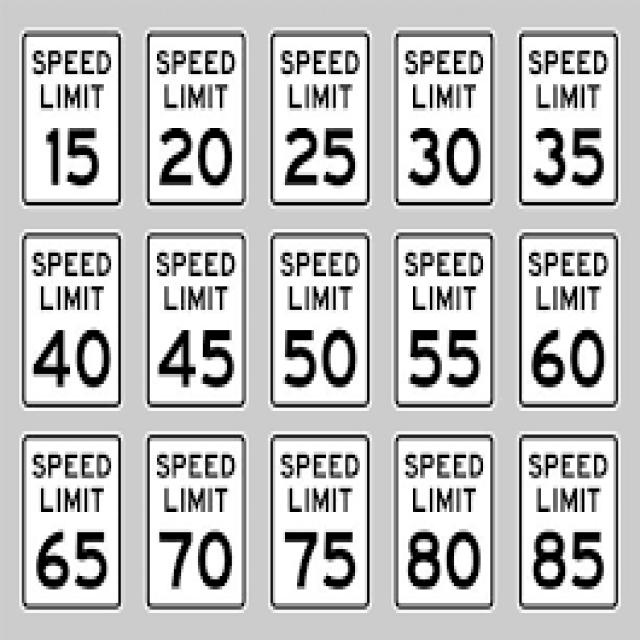speedLimit35: (520, 34, 618, 209)
